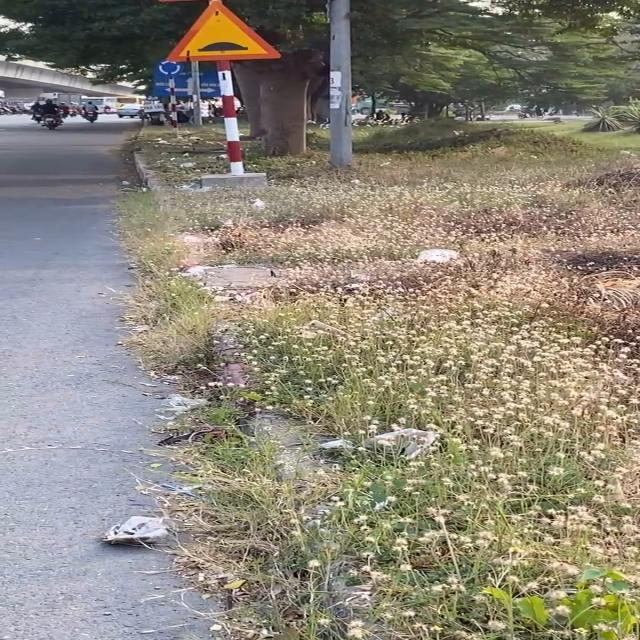221-duong-go-ghe: (162, 0, 283, 61)
303-noi-giao-nhau-chay-theo-vong-xuyen: (156, 60, 184, 76)
